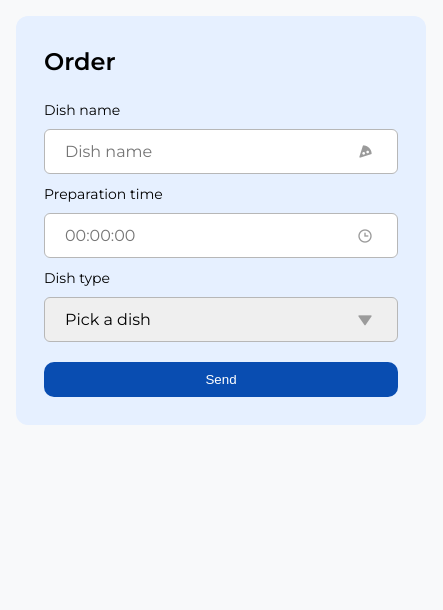
<Form /> › Dish type "pizza" is selected › should render pizza related inputs (slices and diameter)
Select "Pizza" in the dropdown at (221, 320), box [44,297,398,342]
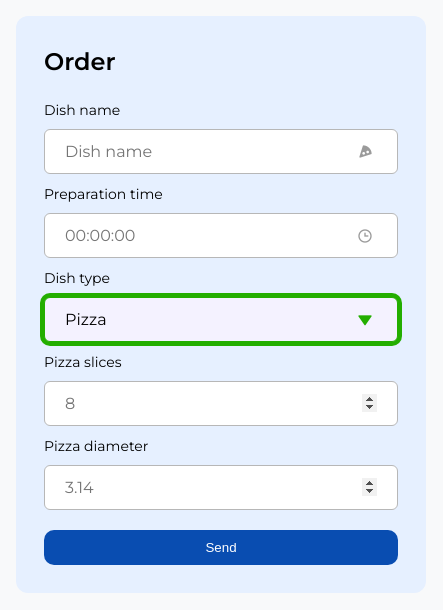
Result: the number field labelled "Pizza slices" is shown at [44,381,398,426]
Result: the number field labelled "Pizza diameter" is shown at [44,465,398,510]
